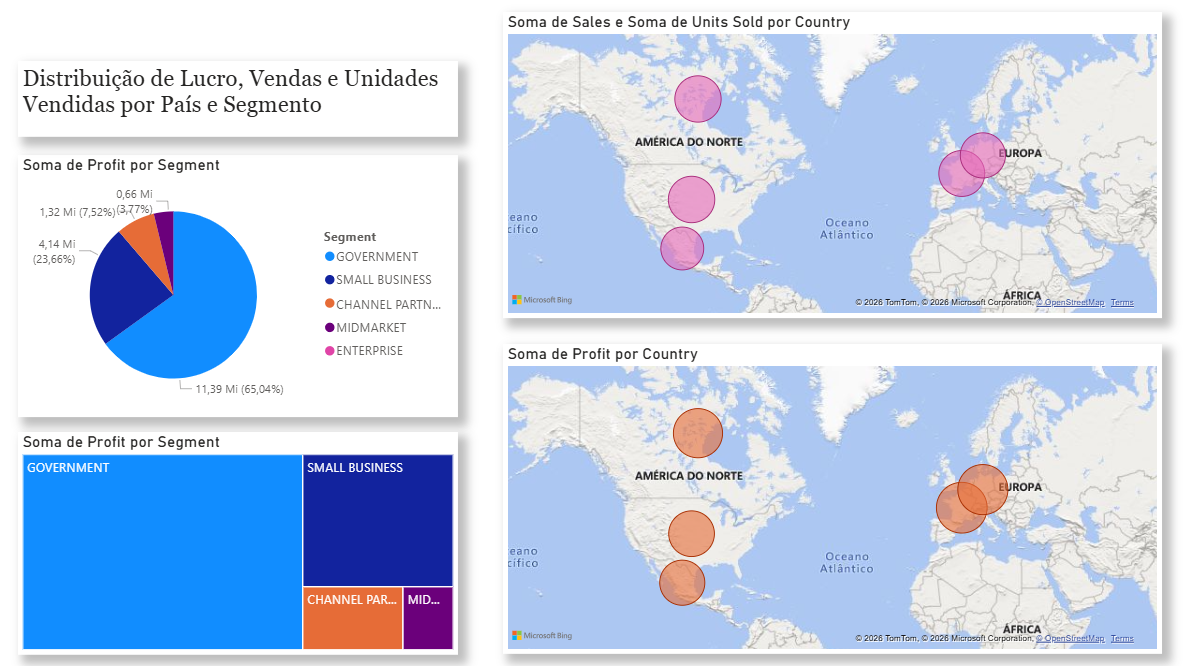

The page's visual inventory and layout, read from the dashboard file:
{"tool":"powerbi","page":{"name":"Página 3","canvas":[1280,720],"ordinal":2},"visuals":[{"type":"pieChart","fields":{"Category":["financials.Segment"],"Y":["Sum(financials.Profit)"]},"box":[24.6,173.5,469.9,280],"z":0},{"type":"textbox","box":[24.6,72.4,469.9,80.6],"z":1000},{"type":"treemap","fields":{"Group":["financials.Segment"],"Values":["Sum(financials.Profit)"]},"box":[24.6,468.6,469.9,237.7],"z":2000},{"type":"map","fields":{"Category":["financials.Country"],"Size":["Sum(financials.Profit)"]},"box":[542.6,375.2,704.1,331.3],"z":3000},{"type":"map","fields":{"Category":["financials.Country"],"Size":["Sum(financials. Sales)"]},"box":[542.6,20.2,704.1,326.5],"z":4000}]}

Visuals, with their boxes in screenshot pixels (x1, y1, x2, y2), scaled from the page's 1280x720 canvas onto the 1190x666 screenshot:
pieChart - financials.Segment x Sum(financials.Profit): x1=23 y1=160 x2=460 y2=419
textbox: x1=23 y1=67 x2=460 y2=142
treemap - financials.Segment x Sum(financials.Profit): x1=23 y1=433 x2=460 y2=653
map - financials.Country x Sum(financials.Profit): x1=504 y1=347 x2=1159 y2=654
map - financials.Country x Sum(financials. Sales): x1=504 y1=19 x2=1159 y2=321
